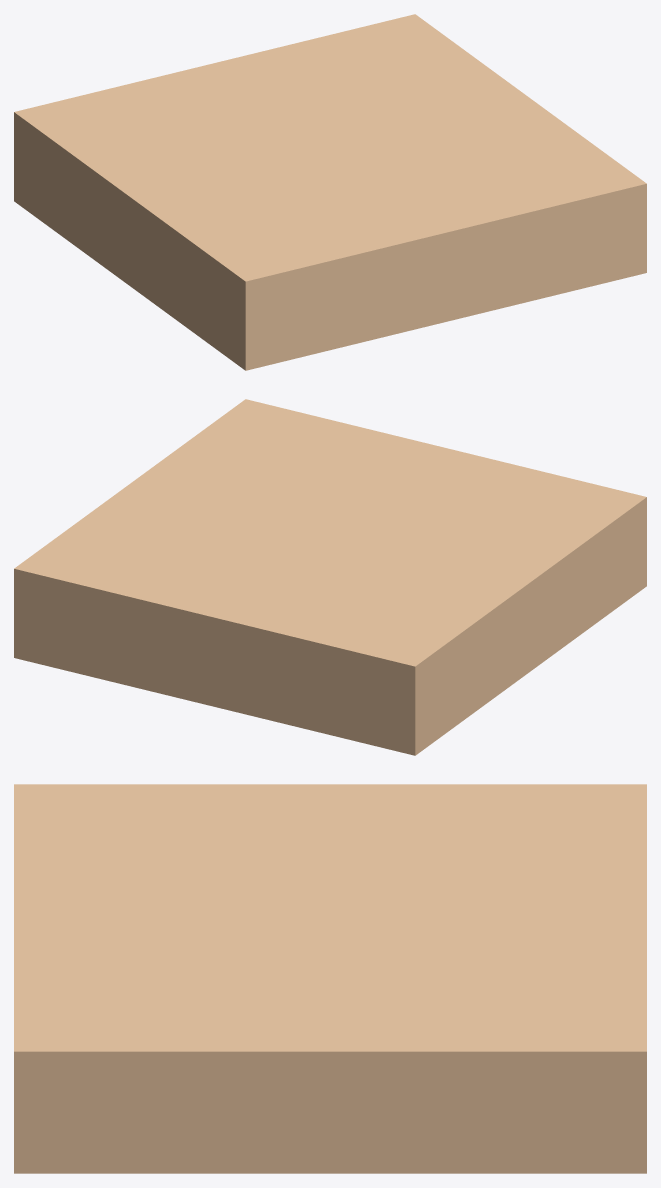
The model's file is roof-flat-detail-d.obj.
3 views of the same model, one above another, from view 1: azimuth 30°, elevation 25°; view 2: azimuth 150°, elevation 25°; view 3: azimuth 270°, elevation 25° (orthographic). The views are drawn at different scales.
Size of the model in its own units: 1 by 0.2125 by 1.
